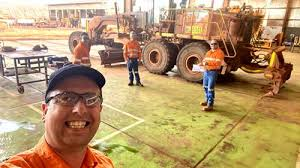Good: (1, 33, 115, 168), (121, 29, 225, 114), (64, 30, 144, 64)
